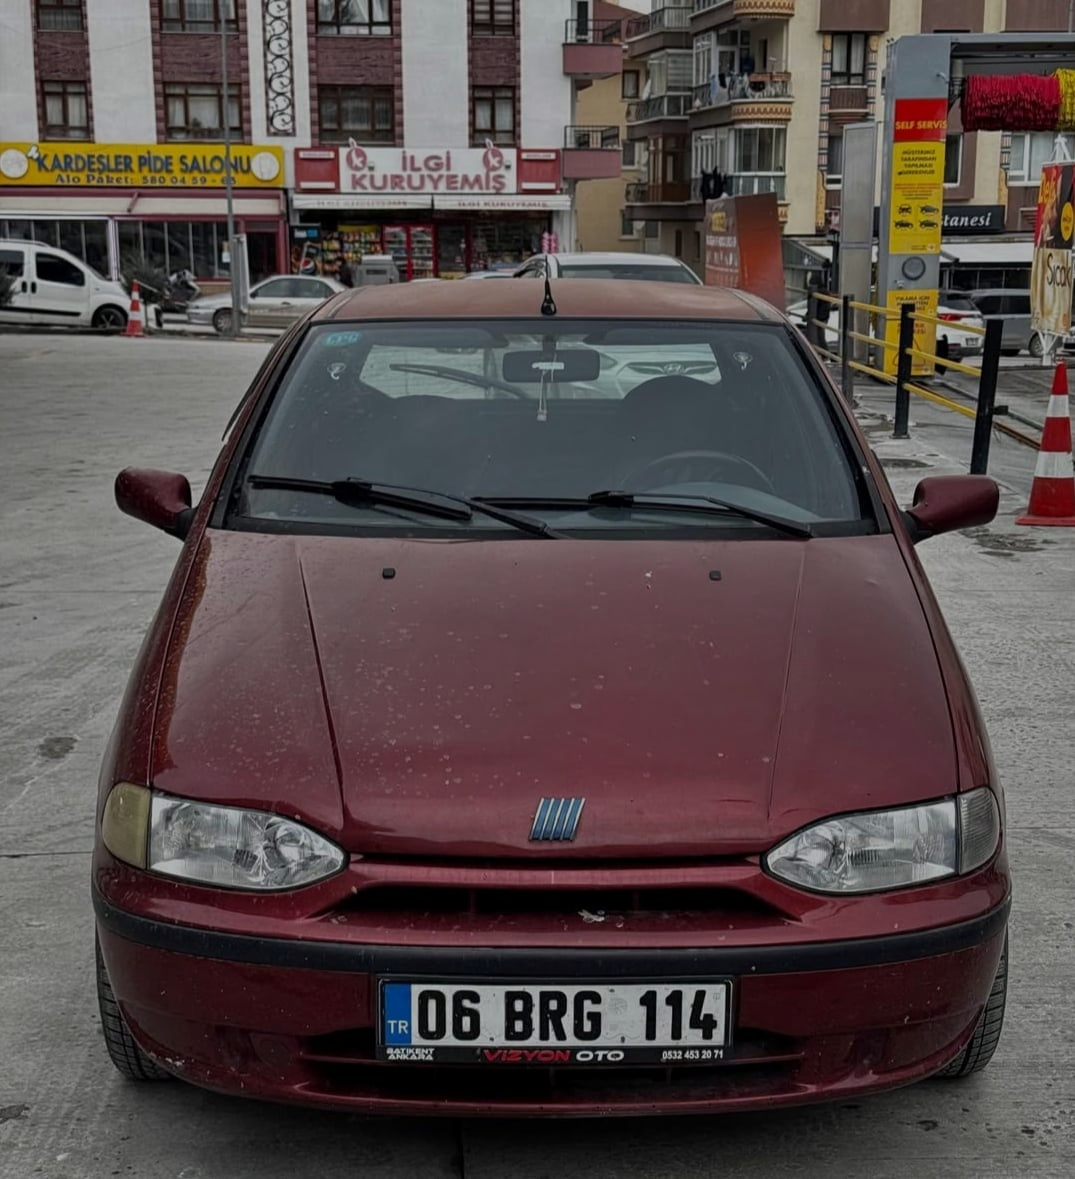plaka: (406, 973, 733, 1056)
